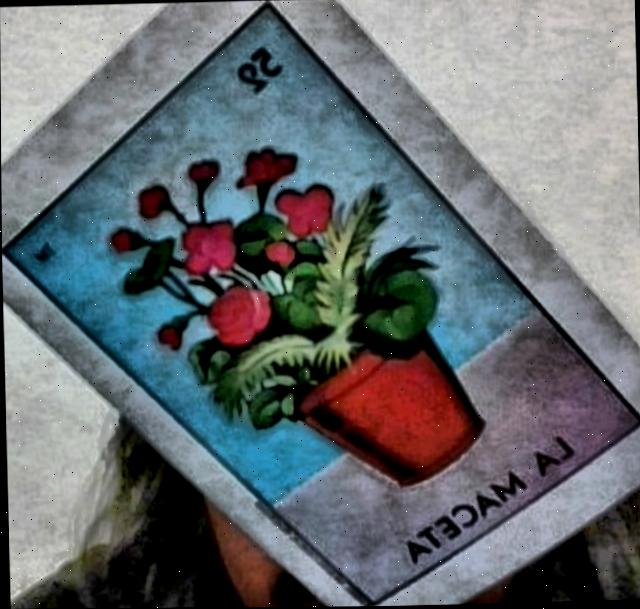La Maceta: (7, 8, 637, 599)
